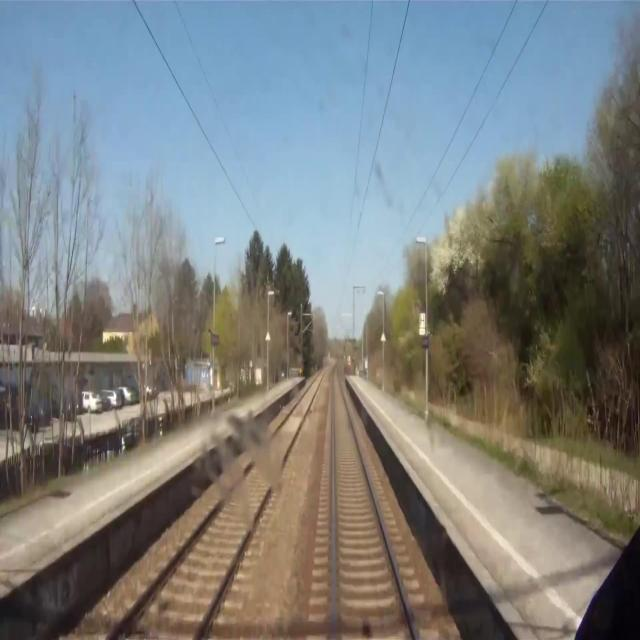rail-track: (114, 378, 319, 639), (334, 370, 414, 639)
